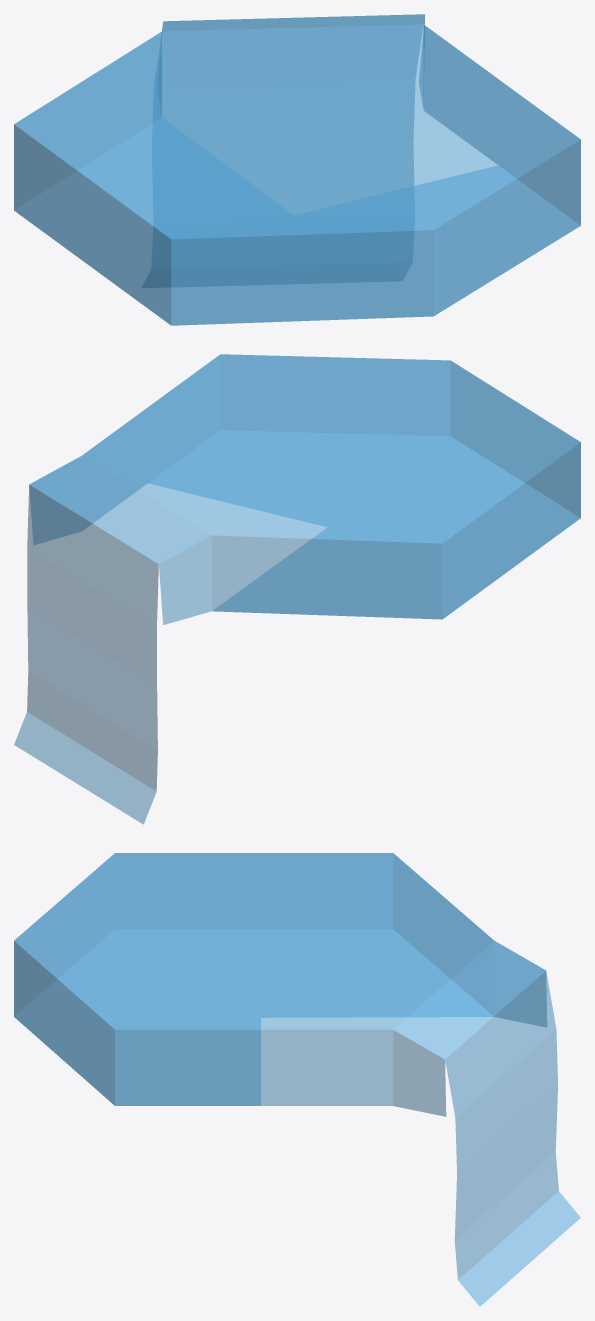
The model's file is water_fx_cascade_tile.gltf.
3 views of the same model, one above another, from view 1: azimuth 30°, elevation 25°; view 2: azimuth 150°, elevation 25°; view 3: azimuth 270°, elevation 25° (orthographic). The views are drawn at different scales.
Visible parts, largest first — view 1: water_fx; view 2: water_fx; view 3: water_fx.
Part boxes in pixels (<box>): water_fx: <box>14,14,580,325</box>; water_fx: <box>14,354,580,824</box>; water_fx: <box>14,853,580,1306</box>.
Bounding box in the file's own units: 1.72 × 1.12 × 2.17.
